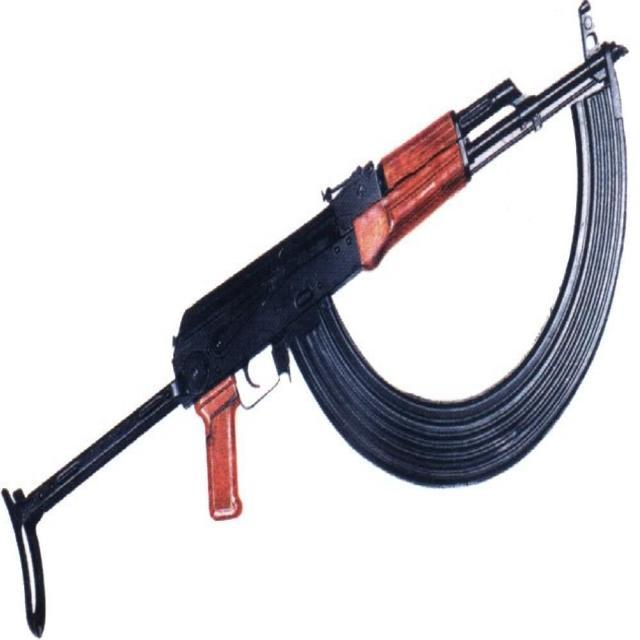ak: (0, 29, 628, 639)
